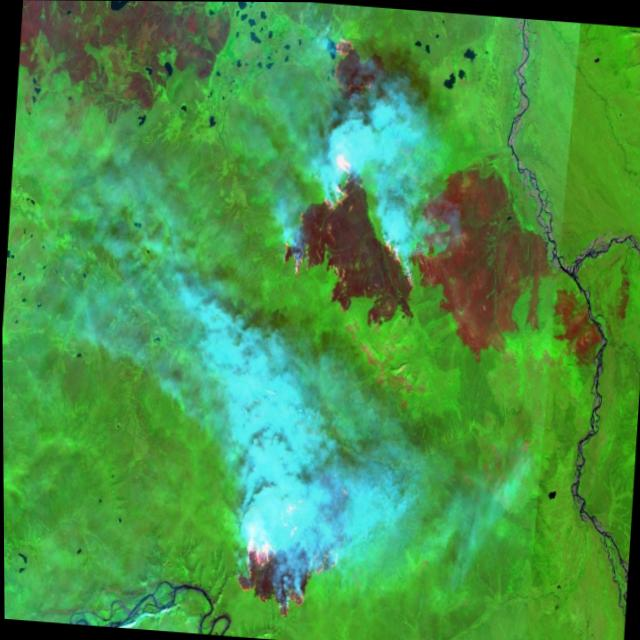fire: (273, 144, 429, 291), (230, 467, 363, 616), (323, 27, 385, 106)
